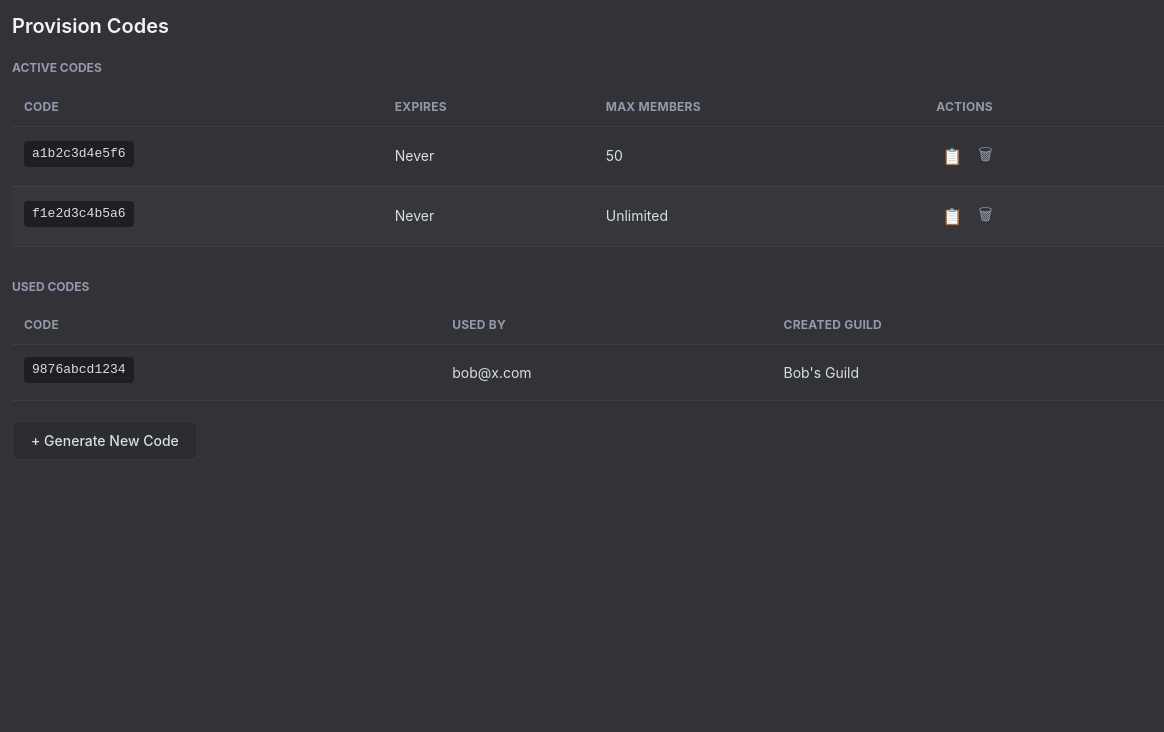
P14 — Node Admin Panel › generate provision code → new code appears
# Open form
Click the button with test id "show-generate-btn" at (105, 440), box [12,421,198,460]
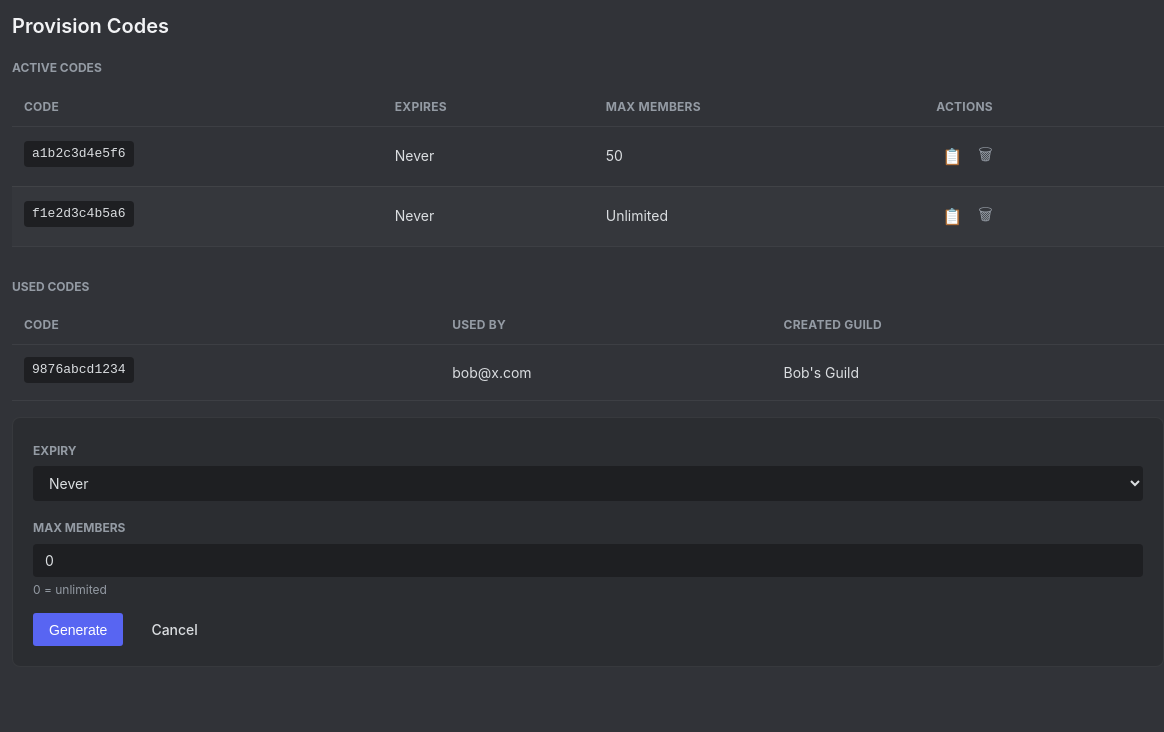
expect the element with test id "generate-form" is shown: met, box [12,417,1163,667]
# Click generate
Click the button with test id "generate-btn" at (78, 630), box [33,613,123,646]
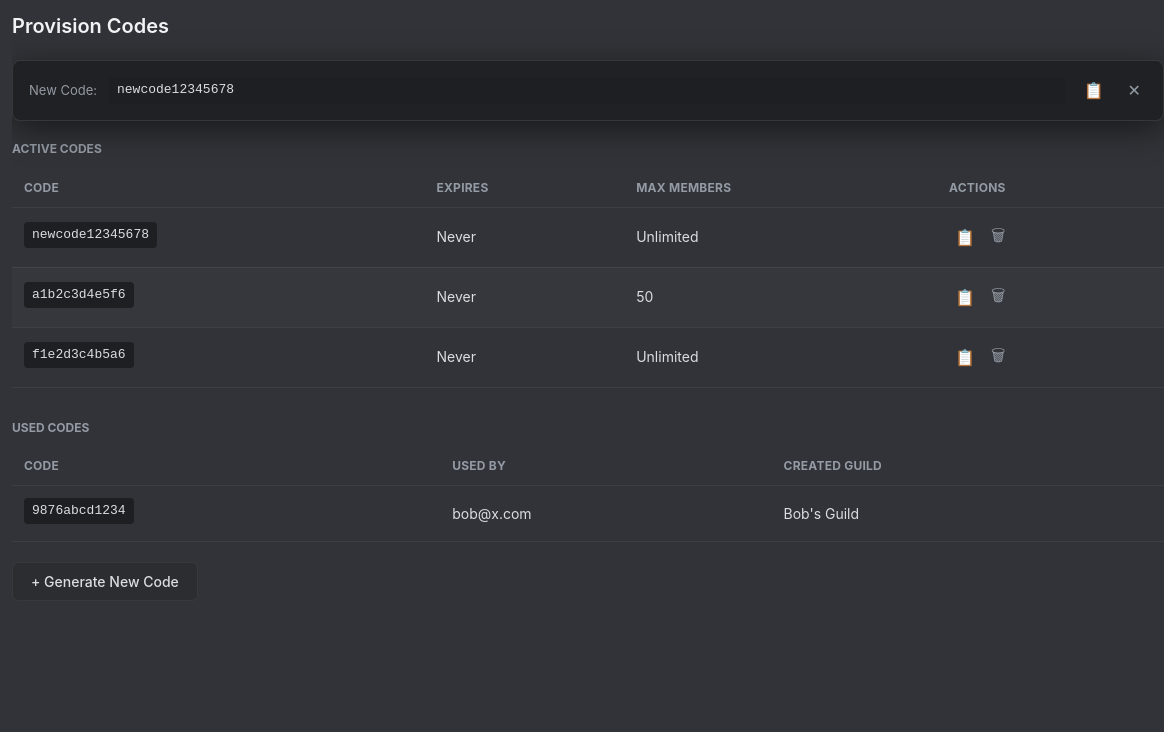
expect the element with test id "new-code-banner" is shown: met, box [12,60,1163,121]
